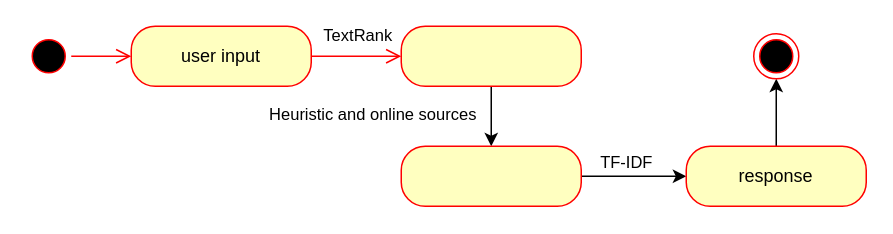
Image size: 893x234. Some labels were removed from this diagram. The shapes that lost their labels are listed below. From the top down, each one's centre as x and y in pixels, then its label:
At [490,55]: "keywords".
At [490,175]: "raw answer".
